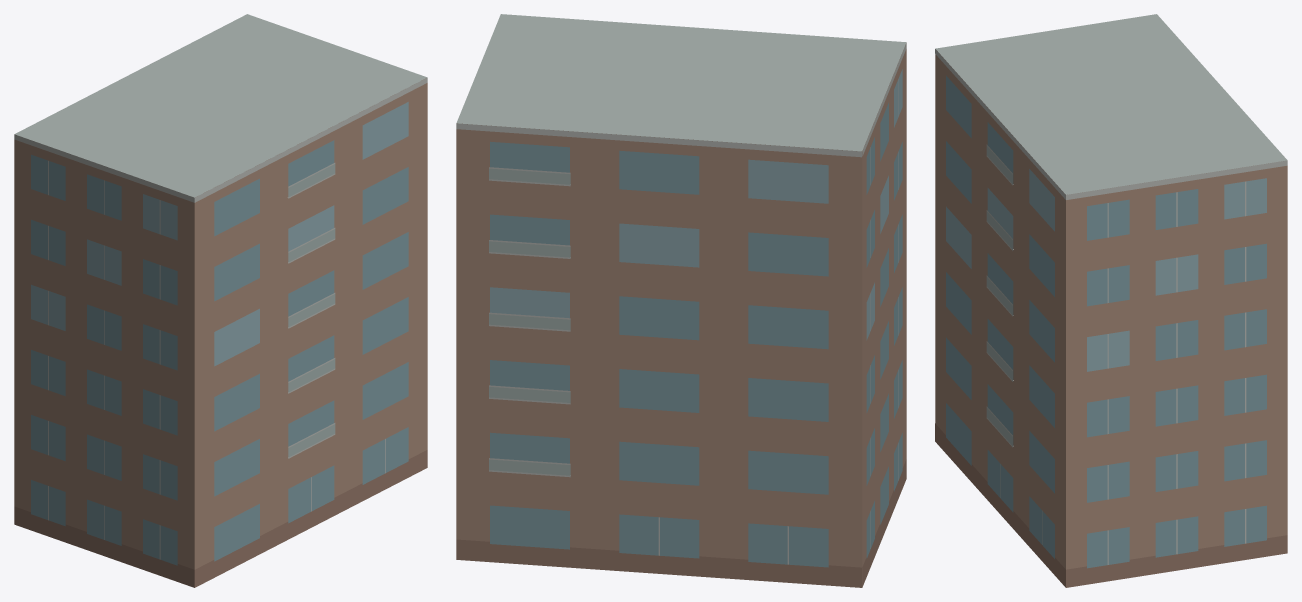
Rendered from survey-upis-32863651.glb.
3 views of the same model, side by side, from view 1: azimuth 30°, elevation 25°; view 2: azimuth 150°, elevation 25°; view 3: azimuth 270°, elevation 25° (orthographic). The views are drawn at different scales.
Parts seen in each view (by area): view 1: survey-upis-32863651.tmp; view 2: survey-upis-32863651.tmp; view 3: survey-upis-32863651.tmp.
Boxes of the visible parts, <box> form: survey-upis-32863651.tmp: <box>14,14,427,587</box>; survey-upis-32863651.tmp: <box>456,14,906,587</box>; survey-upis-32863651.tmp: <box>935,14,1287,587</box>.
Size of the model in its own units: 18.08 by 18.3 by 14.89.
